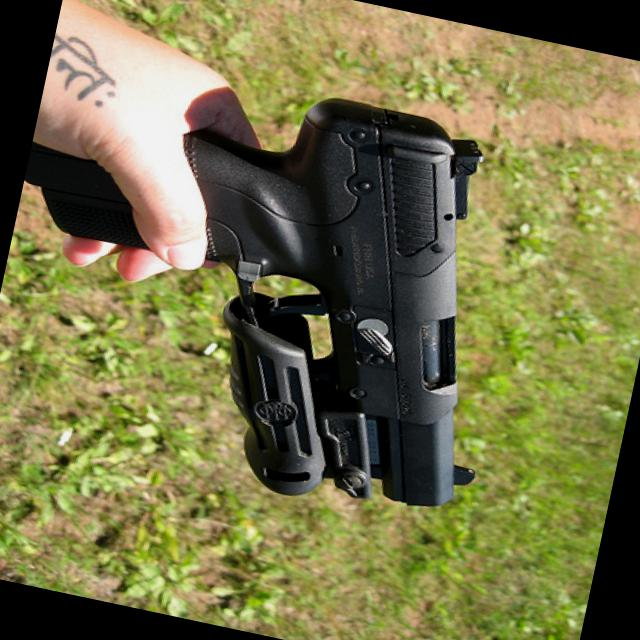handgun: (0, 34, 549, 533)
